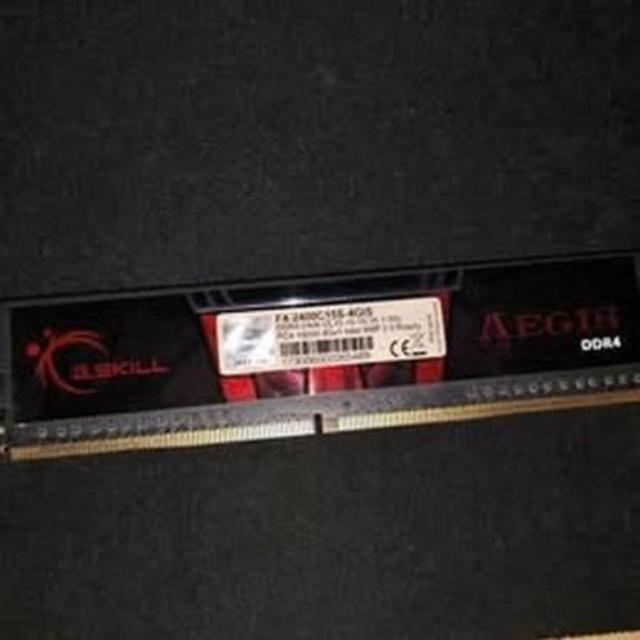RAM: (2, 264, 640, 470)
